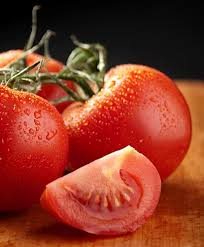tomate: (10, 40, 182, 232)
